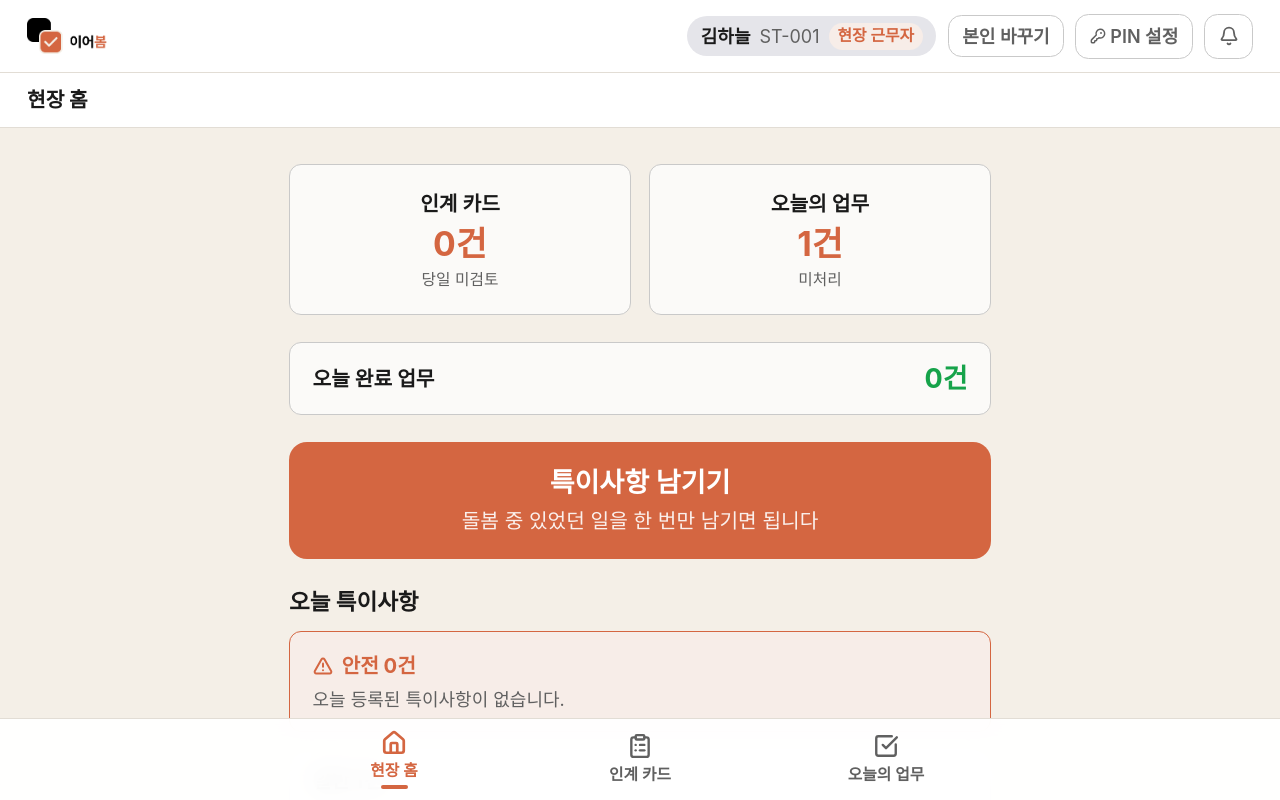
업무 목록 (n31 · n32) › 현장 홈에서 들어올 수 있다
The image size is (1280, 800).
Click the button "오늘의 업무 1건 미처리".
click(820, 239)  # box [649,164,991,314]
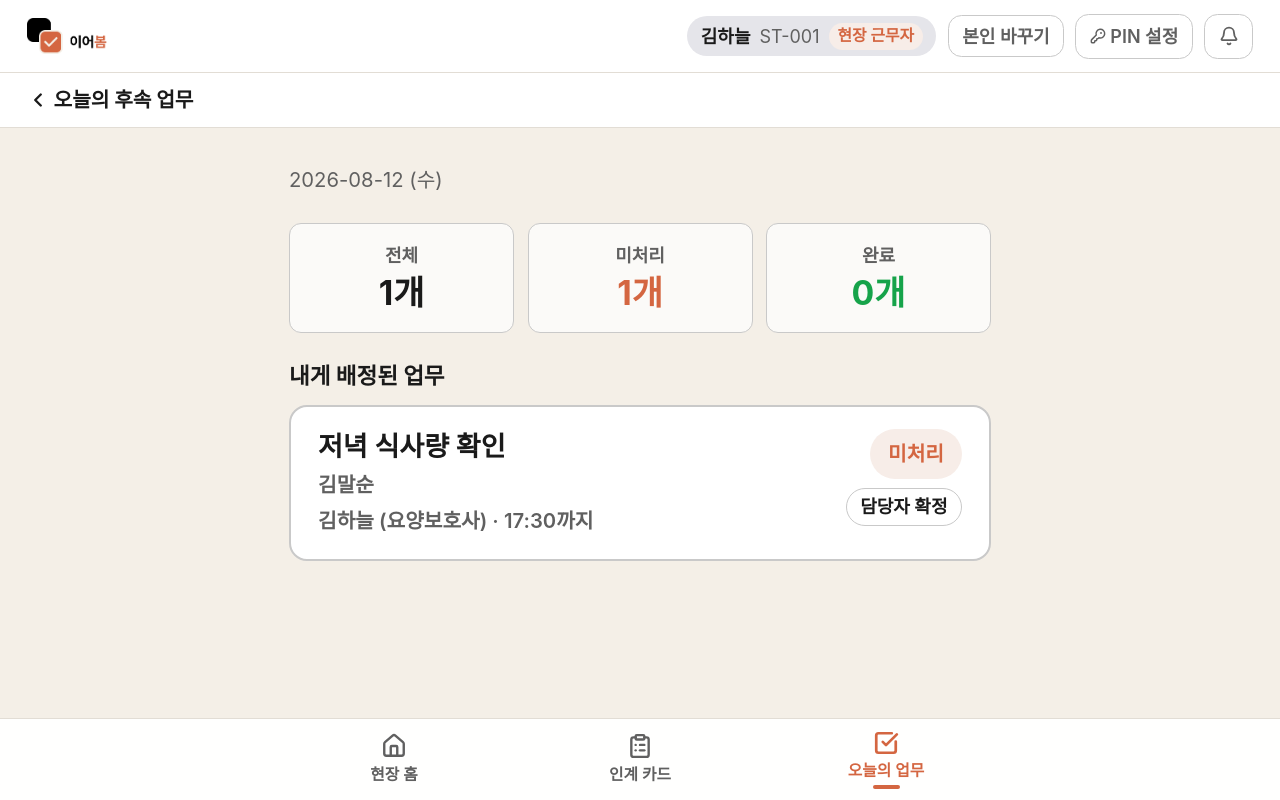
Result: the text "오늘의 후속 업무" is shown at [54,84,194,116]
